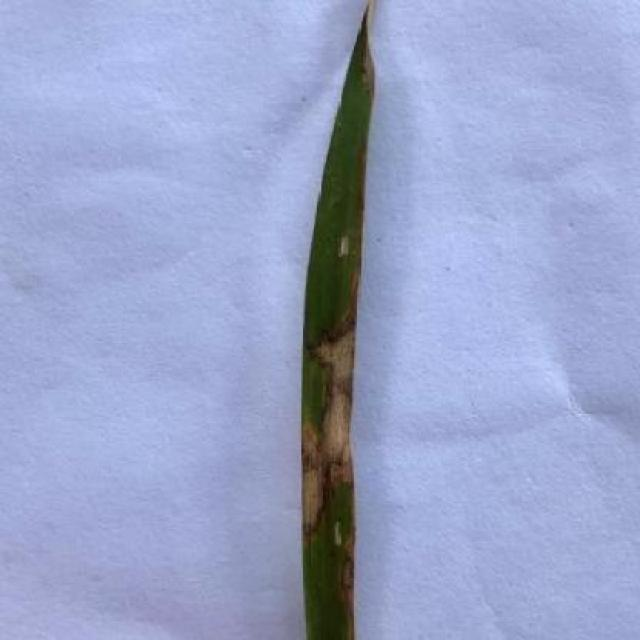Brown_Spot: (289, 0, 385, 640)
